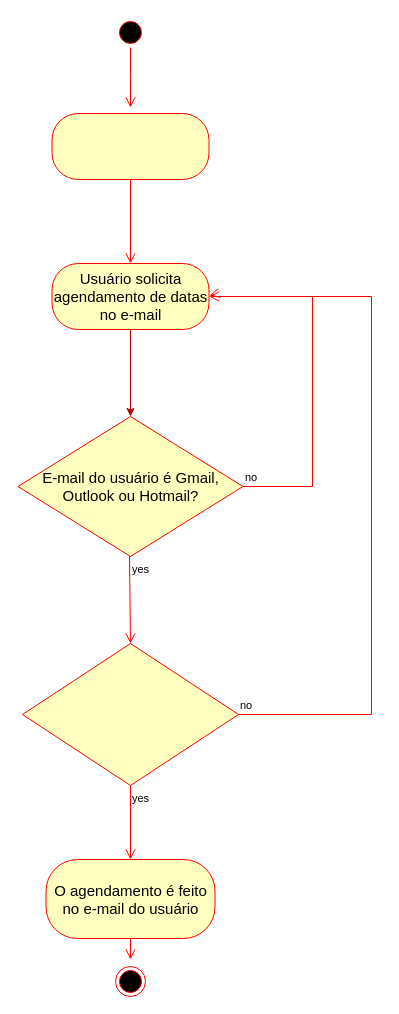
This 399x1014 diagram has some shape labels left out. Each missing label, with the centre of its shape:
O e-mail do usuário é válido?: (x=130, y=714)
Usuário realiza download do Spidey: (x=130, y=146)
